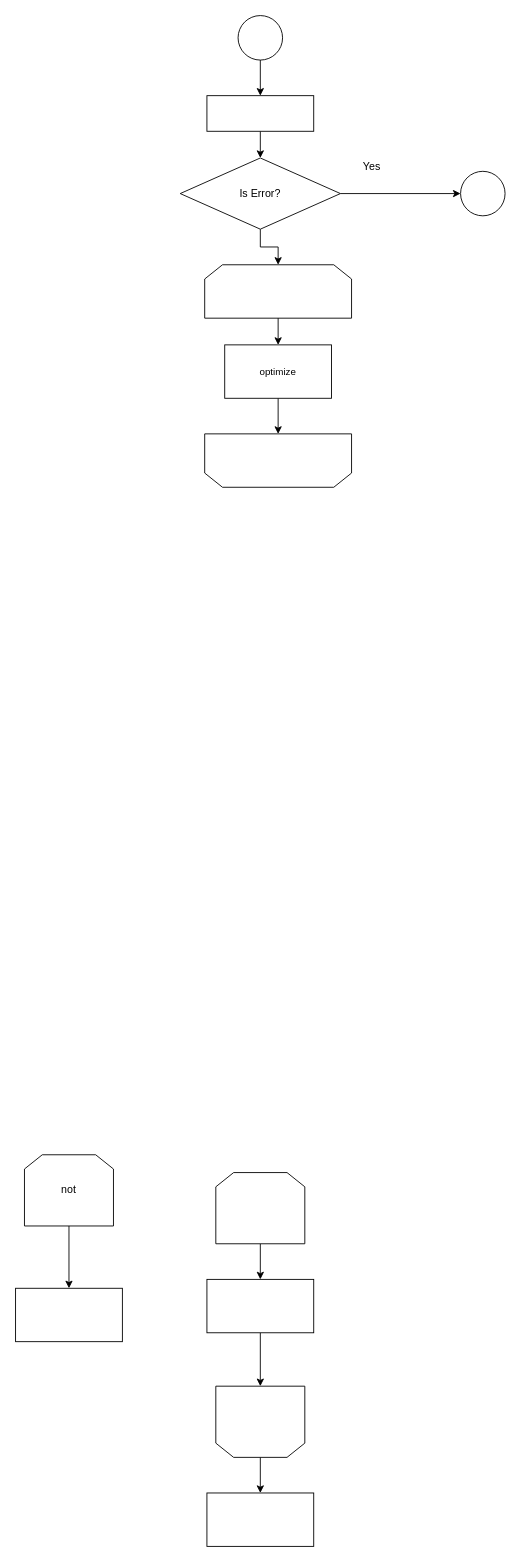
The diagram is 521 pixels wide and 1562 high, and some of its shapes have lost their labels. The centre of each missing label's shape, as x and y in pixels:
check data: (260,113)
i=1, i<200, i++: (278,291)
